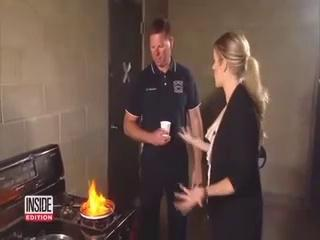Fire: (80, 180, 113, 216)
